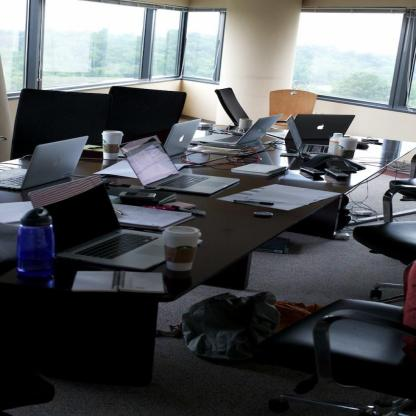board: (28, 175, 203, 269), (118, 134, 240, 194), (1, 136, 87, 188), (117, 120, 200, 156), (17, 207, 56, 277), (196, 115, 283, 144), (162, 228, 202, 274), (303, 112, 362, 142), (285, 115, 328, 154), (99, 132, 124, 162), (336, 138, 360, 159), (328, 132, 344, 154)
